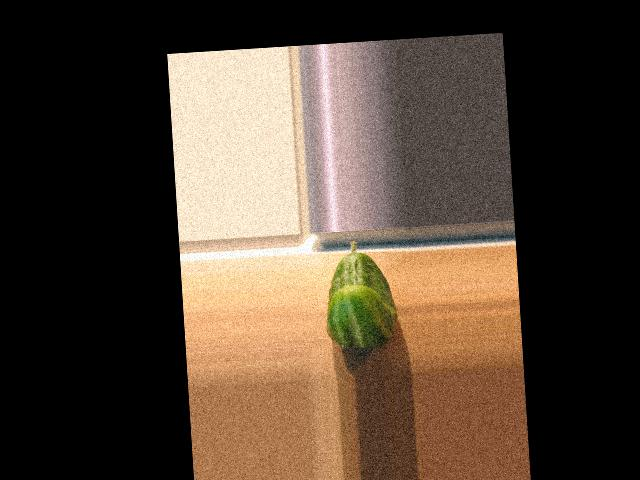cucumber: (320, 237, 398, 351)
